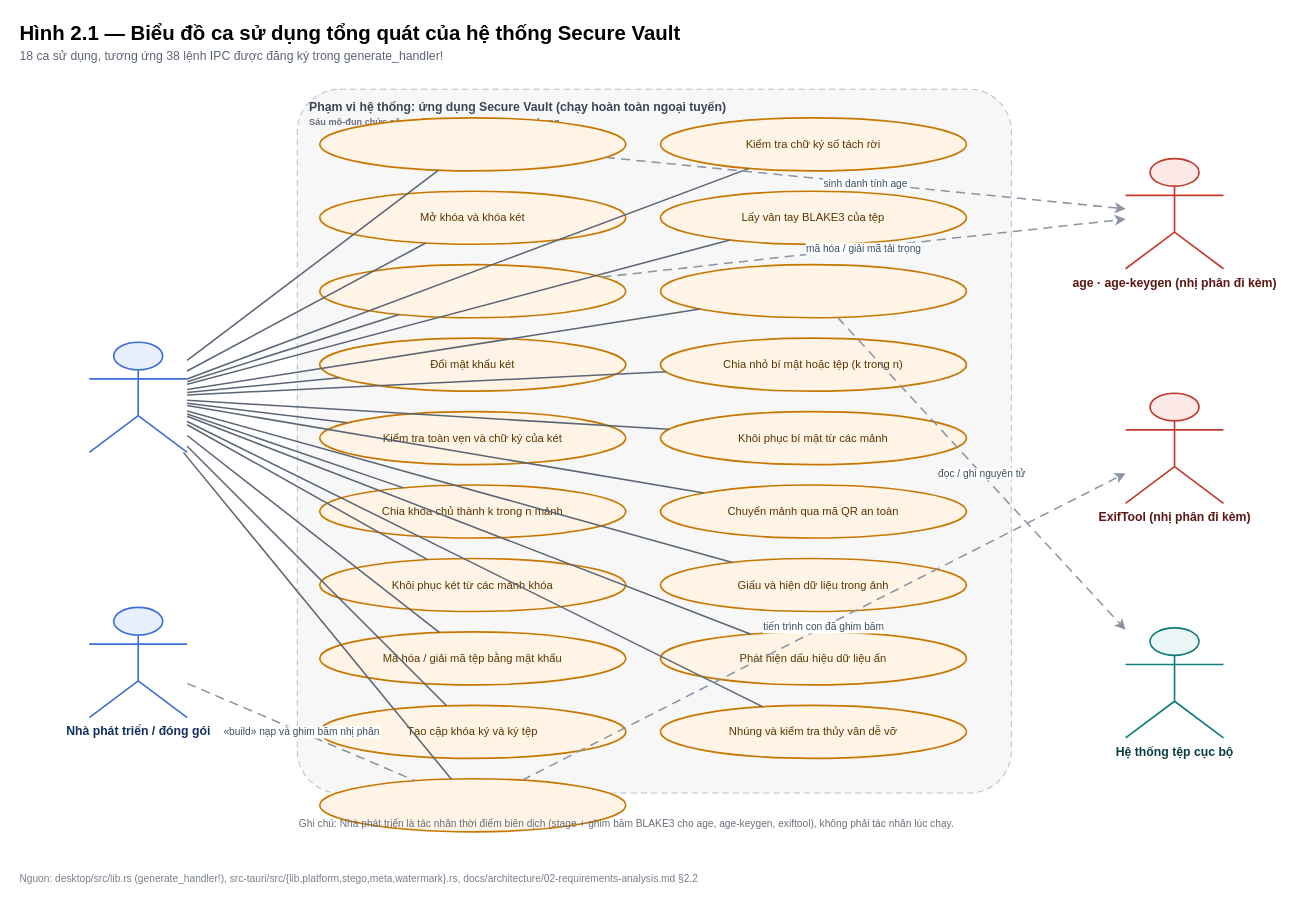
The diagram is 1308 pixels wide and 903 high, and some of its shapes have lost their labels. The shapes that lost their labels are listed below. From the top down, each one's centre as x and y in pixels, then its label:
At [472,143]: "Tạo két an toàn mới".
At [472,290]: "Thêm / trích xuất tệp trong két".
At [813,290]: "Kiểm tra tệp tải về theo băm / chữ ký".
At [137,397]: "Người dùng cuối".
At [472,804]: "Xem / xóa / so sánh siêu dữ liệu".
